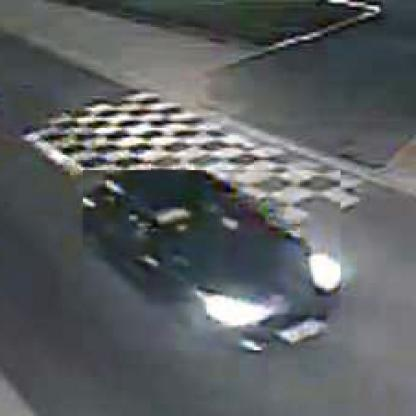car: (82, 171, 342, 353)
